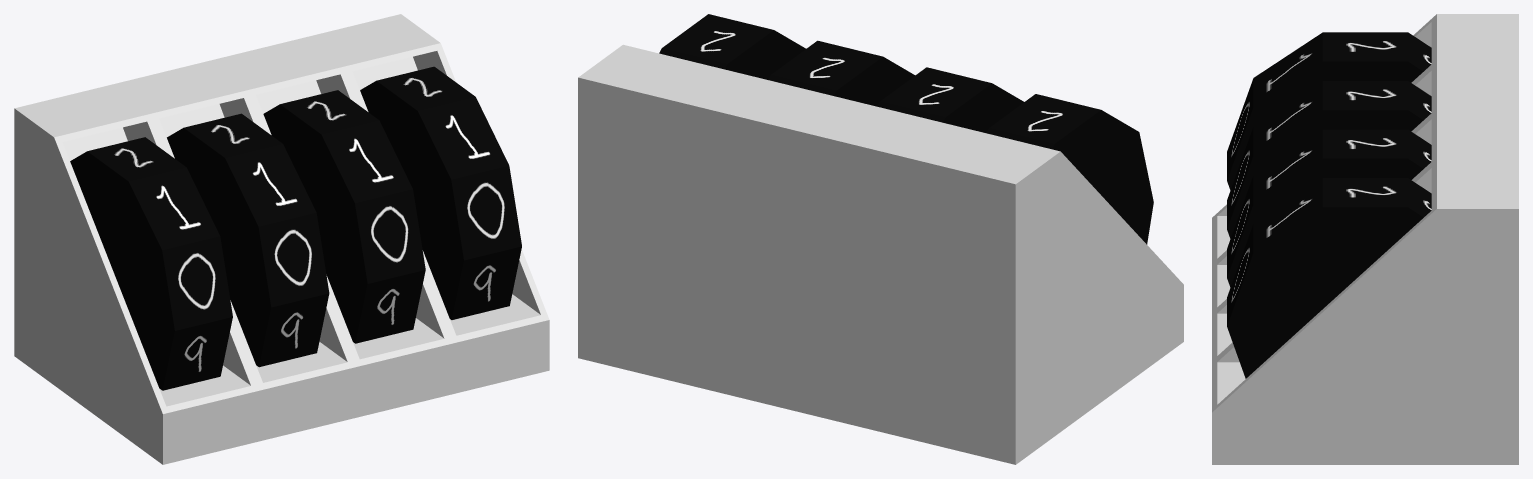
File: CogPuzzle.fbx
3 views of the same model, side by side, from view 1: azimuth 30°, elevation 25°; view 2: azimuth 150°, elevation 25°; view 3: azimuth 270°, elevation 25° (orthographic). The views are drawn at different scales.
Visible parts, largest first — view 1: Base, Cog_1, Cog_2, Cog_3, Cog_4; view 2: Base, Cog_1, Cog_4, Cog_3, Cog_2; view 3: Base, Cog_4, Cog_2, Cog_3, Cog_1.
Boxes of the visible parts, x1=… form: Base: x1=14, y1=14, x2=549, y2=464; Cog_1: x1=70, y1=137, x2=232, y2=390; Cog_2: x1=167, y1=113, x2=329, y2=367; Cog_3: x1=263, y1=90, x2=425, y2=343; Cog_4: x1=360, y1=66, x2=521, y2=319; Base: x1=578, y1=44, x2=1183, y2=464; Cog_1: x1=986, y1=94, x2=1153, y2=244; Cog_4: x1=659, y1=14, x2=805, y2=79; Cog_3: x1=768, y1=40, x2=914, y2=106; Cog_2: x1=877, y1=67, x2=1023, y2=132; Base: x1=1212, y1=14, x2=1518, y2=464; Cog_4: x1=1227, y1=178, x2=1431, y2=378; Cog_2: x1=1227, y1=81, x2=1431, y2=238; Cog_3: x1=1227, y1=129, x2=1431, y2=287; Cog_1: x1=1227, y1=32, x2=1431, y2=190.
Bounding box in the file's own units: 0.2906 × 0.1781 × 0.1933.
1 material, 1 textured.
